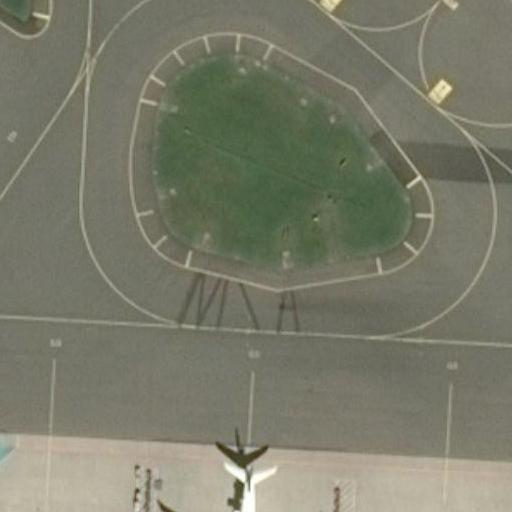Aircraft: (159, 442, 323, 512)
